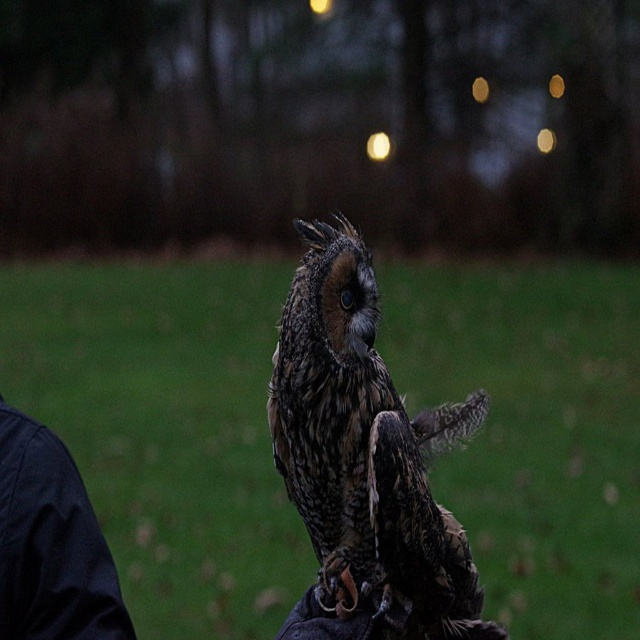Owl: (263, 207, 512, 639)
